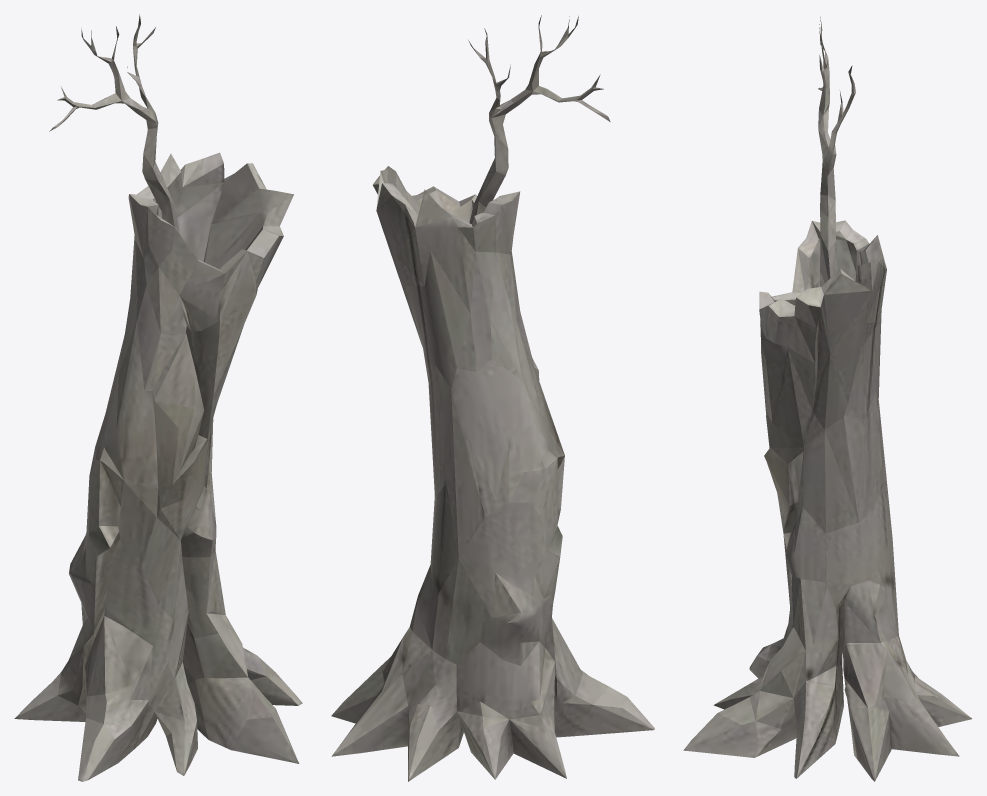
File: snag_2.glb
3 views of the same model, side by side, from view 1: azimuth 30°, elevation 25°; view 2: azimuth 150°, elevation 25°; view 3: azimuth 270°, elevation 25° (orthographic). The views are drawn at different scales.
Bounding box in the file's own units: 0.6984 × 1.9 × 0.7422.
1 material, 1 textured.
